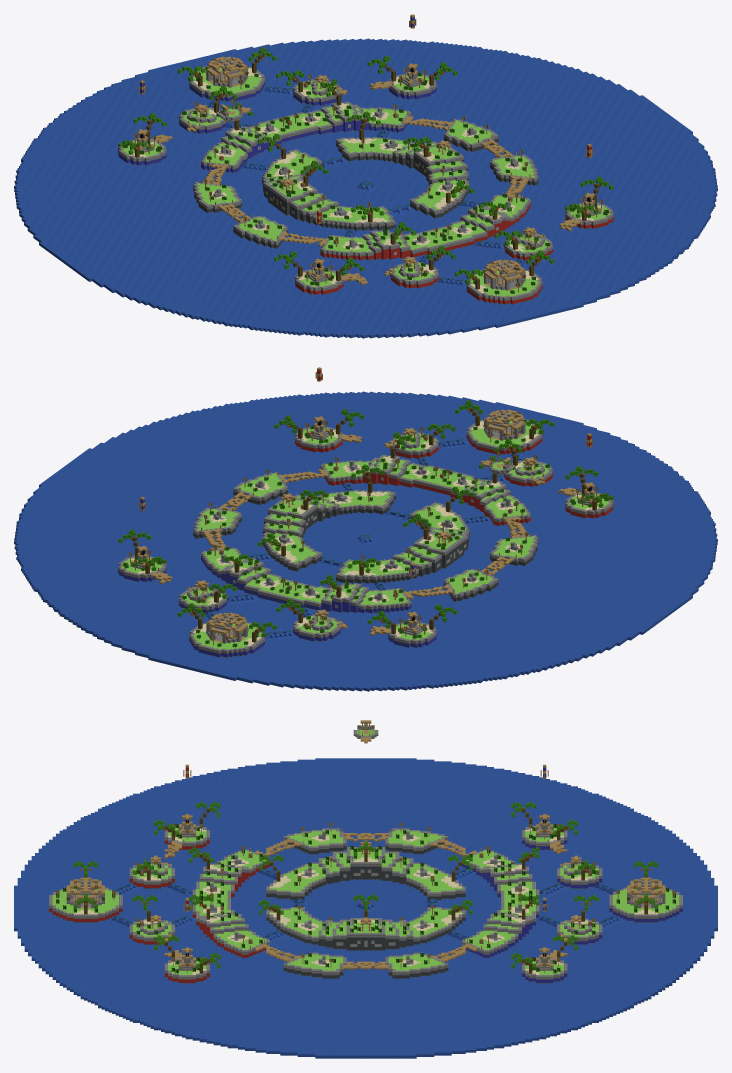
Rendered from minecraft.obj.
The picture shows the model from 3 angles, top to bottom: view 1: azimuth 30°, elevation 25°; view 2: azimuth 150°, elevation 25°; view 3: azimuth 270°, elevation 25°; orthographic projection.
Size of the model in its own units: 2010 by 380 by 2010.
